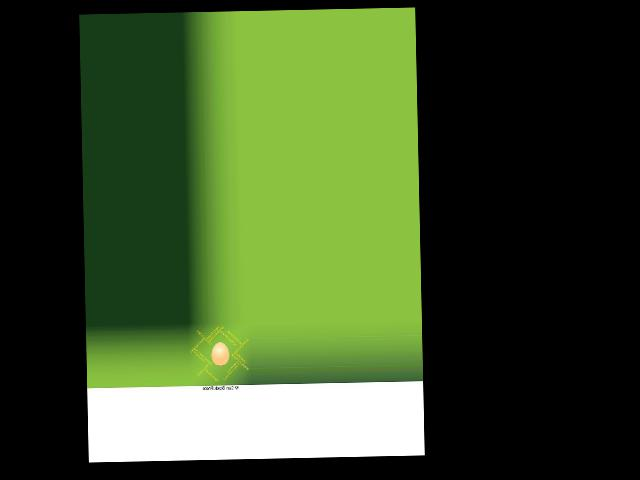egg: (210, 341, 229, 365)
